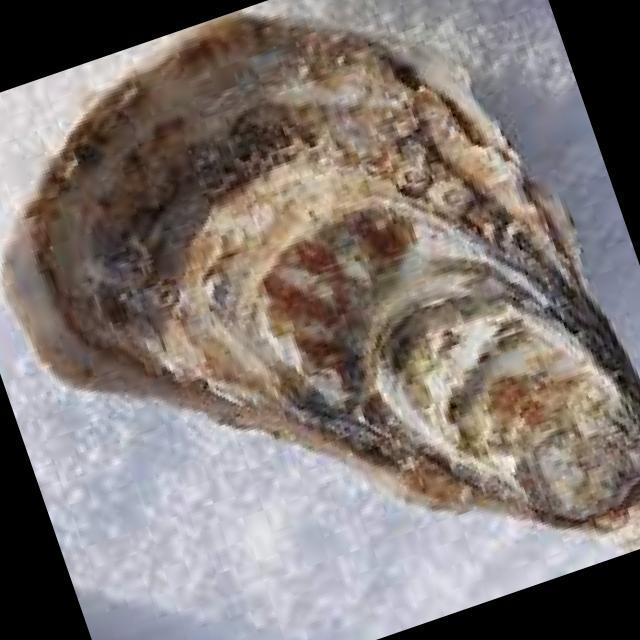Oyster- Indeterminate: (8, 15, 640, 522)
